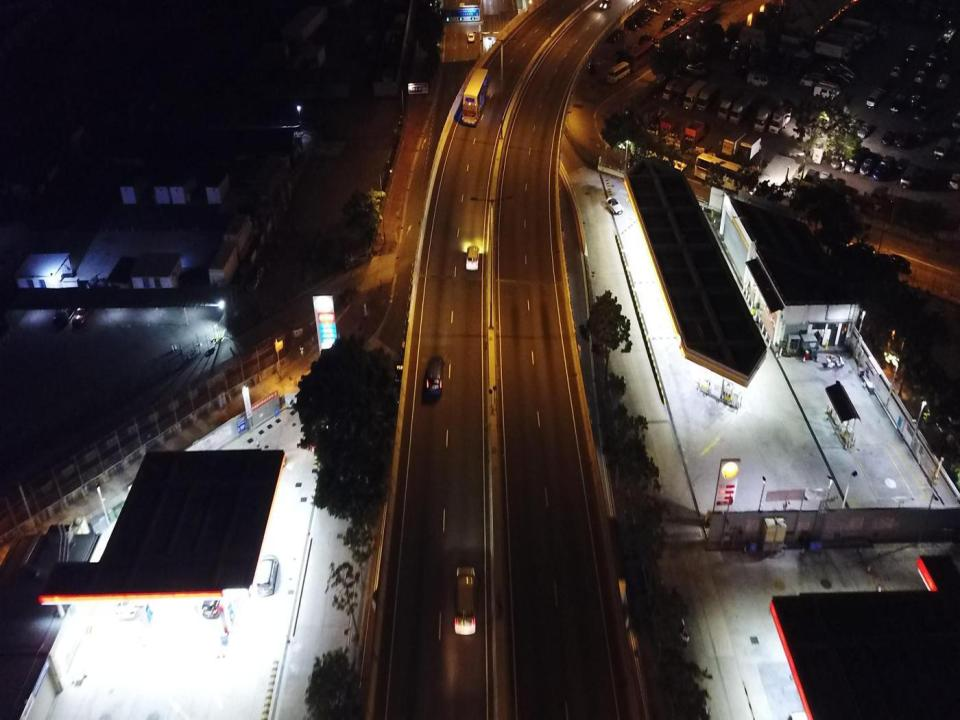bus: (695, 152, 753, 194), (462, 68, 489, 127), (672, 12, 700, 45), (652, 26, 680, 58), (628, 41, 655, 73), (696, 0, 720, 27), (937, 28, 956, 60), (465, 245, 480, 270)
car: (257, 554, 279, 596), (202, 578, 223, 618), (53, 297, 77, 325), (246, 265, 264, 292), (72, 304, 93, 327), (605, 196, 624, 215), (845, 154, 862, 172), (829, 73, 850, 87), (685, 64, 706, 78), (602, 29, 620, 43), (916, 127, 931, 143), (872, 164, 887, 180), (894, 134, 912, 147), (830, 154, 843, 171), (617, 48, 634, 61), (732, 66, 752, 77), (836, 66, 854, 78), (620, 18, 638, 30), (880, 155, 895, 169), (857, 123, 871, 138), (813, 66, 832, 77), (883, 129, 896, 145), (860, 159, 873, 175), (638, 34, 655, 46), (626, 14, 643, 26), (914, 106, 926, 122), (635, 10, 652, 21), (642, 4, 659, 15), (810, 70, 828, 80), (800, 76, 818, 86), (671, 8, 686, 20), (909, 93, 920, 109), (948, 174, 959, 190), (631, 14, 648, 24), (662, 19, 677, 30), (896, 159, 907, 172), (601, 0, 613, 9), (587, 62, 596, 74), (890, 66, 900, 76), (914, 72, 924, 82), (467, 33, 474, 42)
truck: (850, 12, 892, 41), (834, 20, 873, 44), (729, 94, 757, 125), (815, 39, 850, 63), (826, 29, 862, 52), (718, 90, 745, 120), (754, 100, 776, 132), (722, 132, 748, 159), (684, 83, 709, 110), (673, 79, 698, 105), (663, 75, 688, 101), (697, 82, 720, 110), (740, 134, 762, 161), (768, 108, 790, 134), (684, 120, 707, 144), (660, 112, 683, 134)
van: (455, 567, 477, 637), (425, 356, 444, 397), (607, 60, 630, 83), (934, 137, 951, 160), (900, 166, 917, 188), (814, 172, 832, 192), (818, 81, 840, 97), (871, 186, 888, 205), (804, 169, 820, 189), (813, 86, 835, 100), (747, 72, 768, 86), (925, 51, 939, 71), (867, 91, 882, 108), (936, 74, 950, 90), (890, 96, 904, 112), (905, 45, 918, 62)
